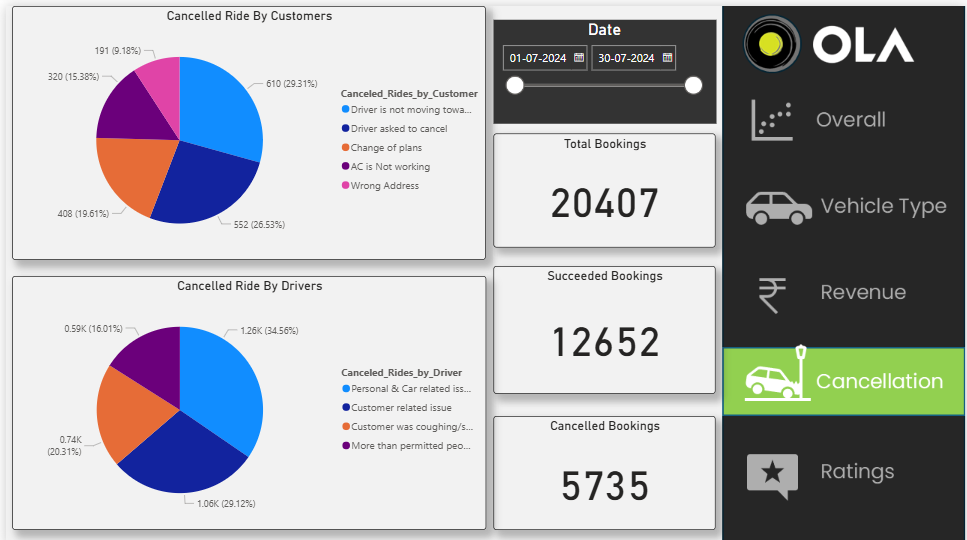

This screenshot's page, from the dashboard's own definition file:
{"tool":"powerbi","page":{"name":"Cancellation","canvas":[1280,720],"ordinal":3},"visuals":[{"type":"actionButton","box":[955.5,222,324.5,89.3],"z":0},{"type":"actionButton","box":[955.5,339,324.5,89.3],"z":1000},{"type":"actionButton","box":[955.5,579.1,324.5,89.3],"z":2000},{"type":"actionButton","box":[955.5,111,324.5,89.3],"z":3000},{"type":"pieChart","title":"Cancelled Ride By Customers","fields":{"Category":["bookings.Canceled_Rides_by_Customer"],"Y":["CountNonNull(bookings.Booking_Status)"]},"box":[8.8,0,631.2,338.8],"z":4000},{"type":"pieChart","title":"Cancelled Ride By Drivers","fields":{"Y":["CountNonNull(bookings.Booking_Status)"],"Category":["bookings.Canceled_Rides_by_Driver"]},"box":[8,360,632,338],"z":5000},{"type":"slicer","title":"Date","fields":{"Values":["bookings.Date"]},"box":[650,18,296,138],"z":6000},{"type":"card","title":"Total Bookings","fields":{"Values":["CountNonNull(bookings.Booking_ID)"]},"box":[650,170,296,152],"z":7000},{"type":"card","title":"Succeeded Bookings","fields":{"Values":["CountNonNull(bookings.Booking_ID)"]},"box":[650,346,296,170],"z":8000},{"type":"card","title":"Cancelled Bookings","fields":{"Values":["CountNonNull(bookings.Booking_ID)"]},"box":[650,546,296,152],"z":9000}]}

Visuals, with their boxes in screenshot pixels (x1, y1, x2, y2), scaled from the page's 1280x720 canvas onto the 967x540 screenshot:
actionButton: (left=722, top=166, right=966, bottom=233)
actionButton: (left=722, top=254, right=966, bottom=321)
actionButton: (left=722, top=434, right=966, bottom=501)
actionButton: (left=722, top=83, right=966, bottom=150)
"Cancelled Ride By Customers" pieChart: (left=7, top=0, right=484, bottom=254)
"Cancelled Ride By Drivers" pieChart: (left=6, top=270, right=484, bottom=524)
"Date" slicer: (left=491, top=14, right=715, bottom=117)
"Total Bookings" card: (left=491, top=128, right=715, bottom=242)
"Succeeded Bookings" card: (left=491, top=260, right=715, bottom=387)
"Cancelled Bookings" card: (left=491, top=410, right=715, bottom=524)
